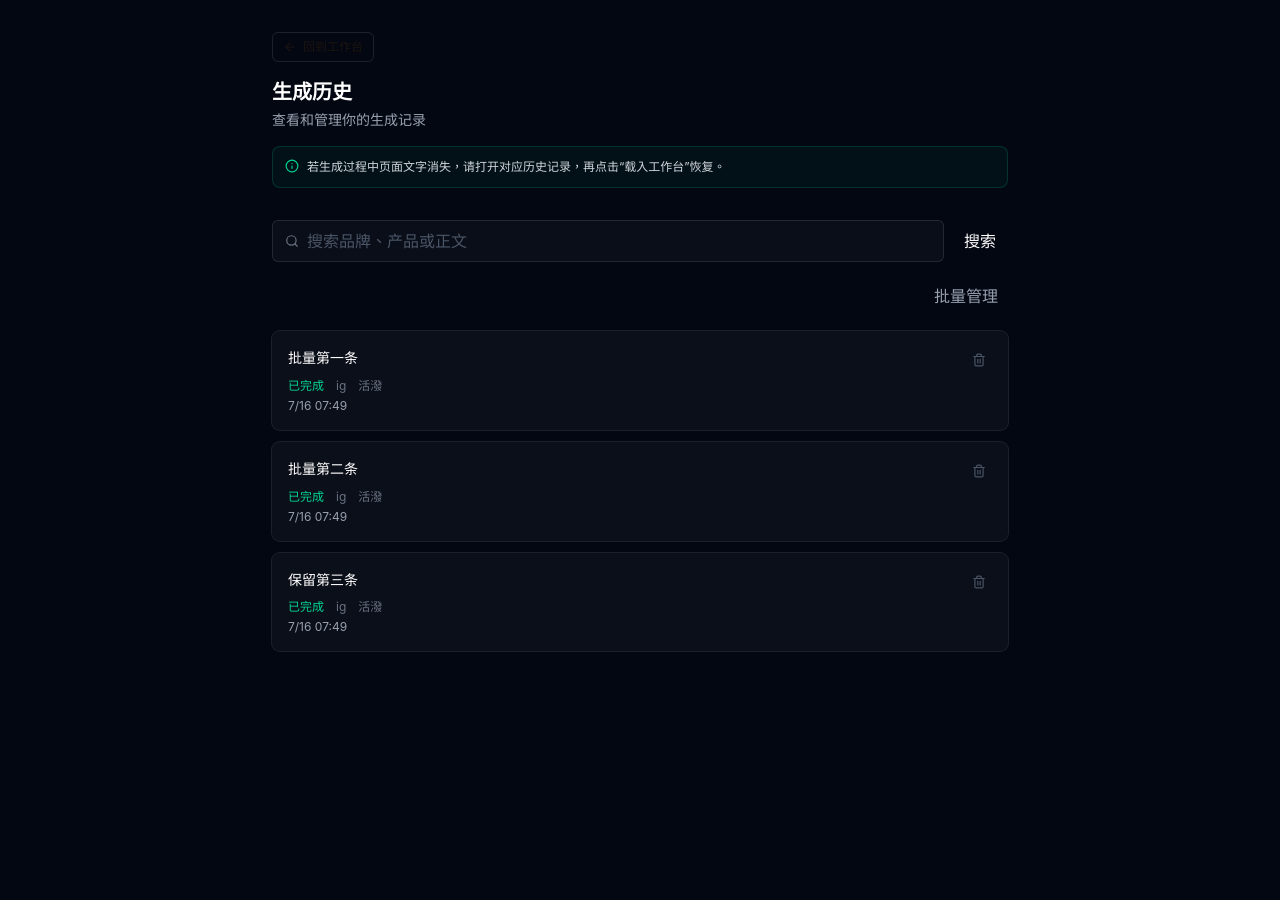
Test: HistoryPage — delete › 支持多选并一次确认批量删除所选历史
The image size is (1280, 900).
Check: the text "批量第一条" is shown, box [288,349,358,366]
Click the button "批量管理" at (966, 297), box [924,278,1008,315]
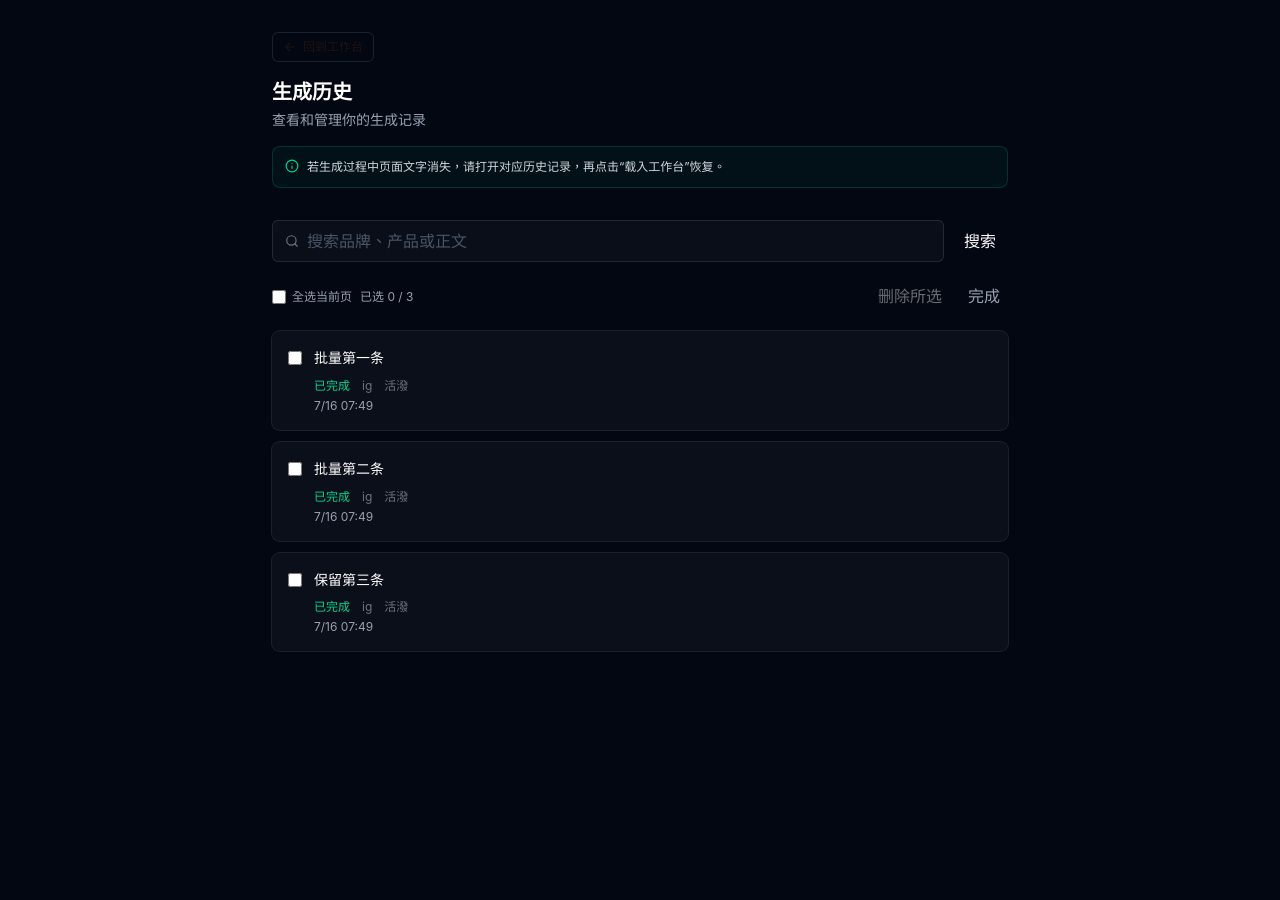
Click the checkbox named "选择历史：批量第一条" at (295, 358), box [288,351,302,365]
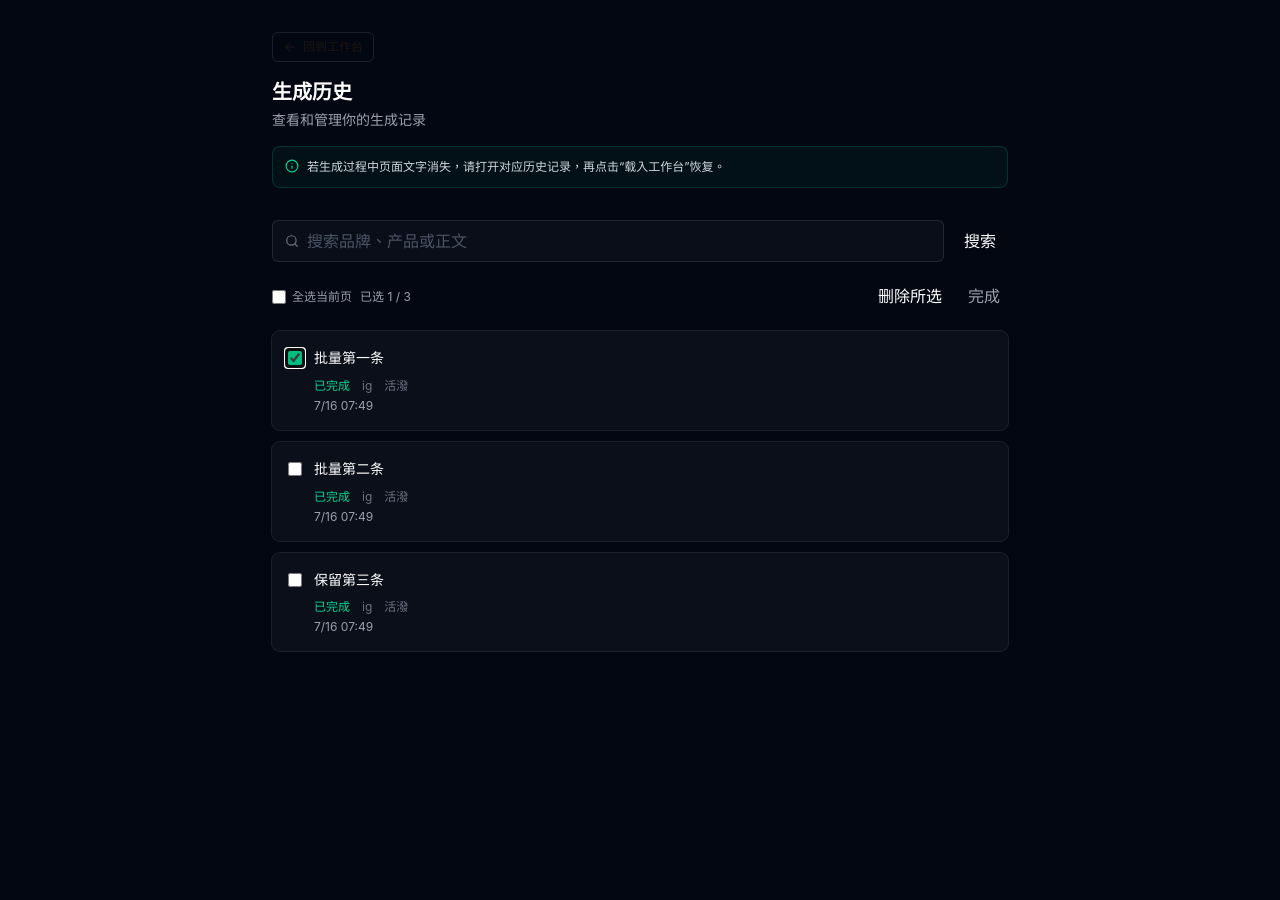
Click the checkbox named "选择历史：批量第二条" at (295, 469), box [288,462,302,476]
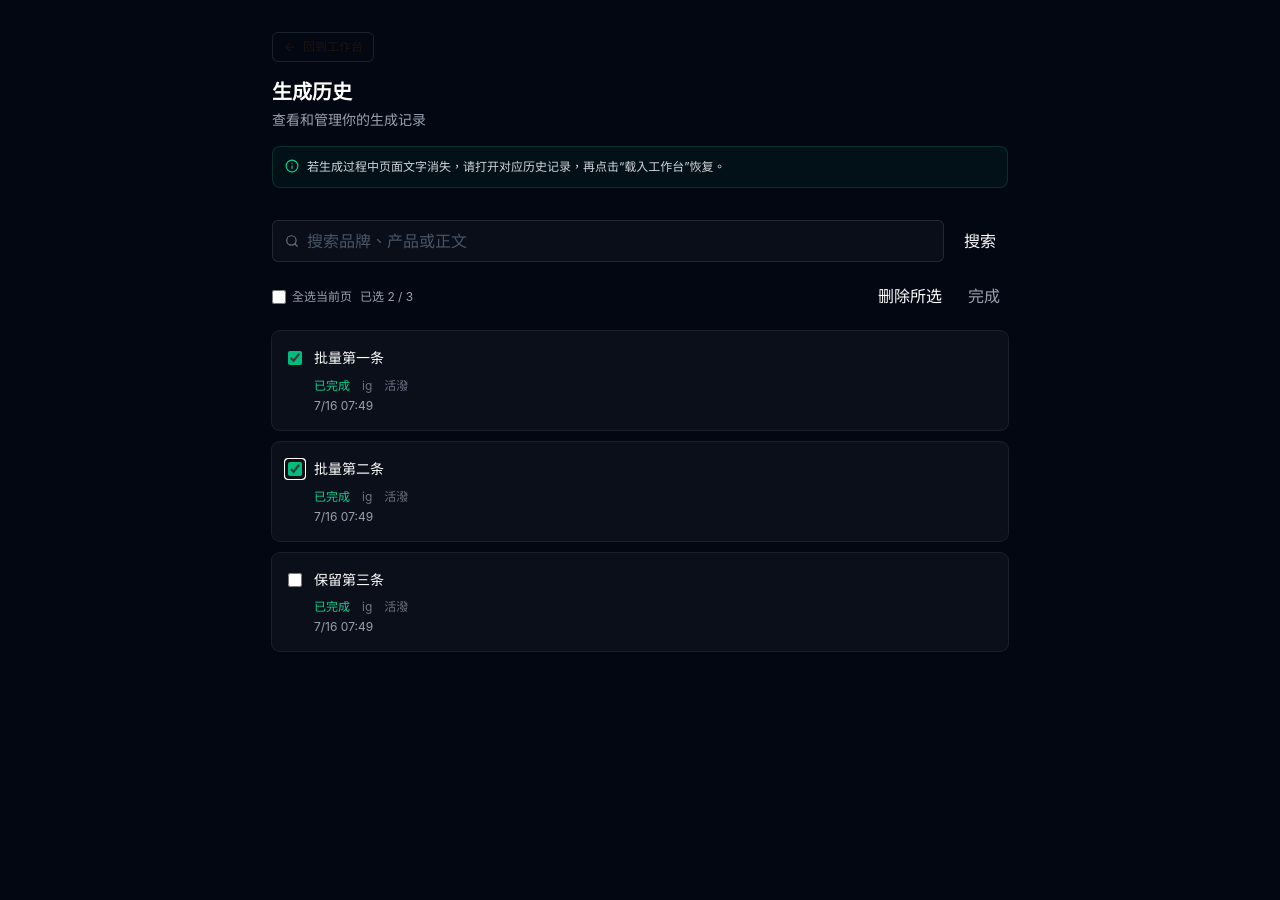
Check: the text "已选 2 / 3" is shown, box [360,289,413,305]
Click the button "删除所选" at (910, 297), box [868,278,952,315]
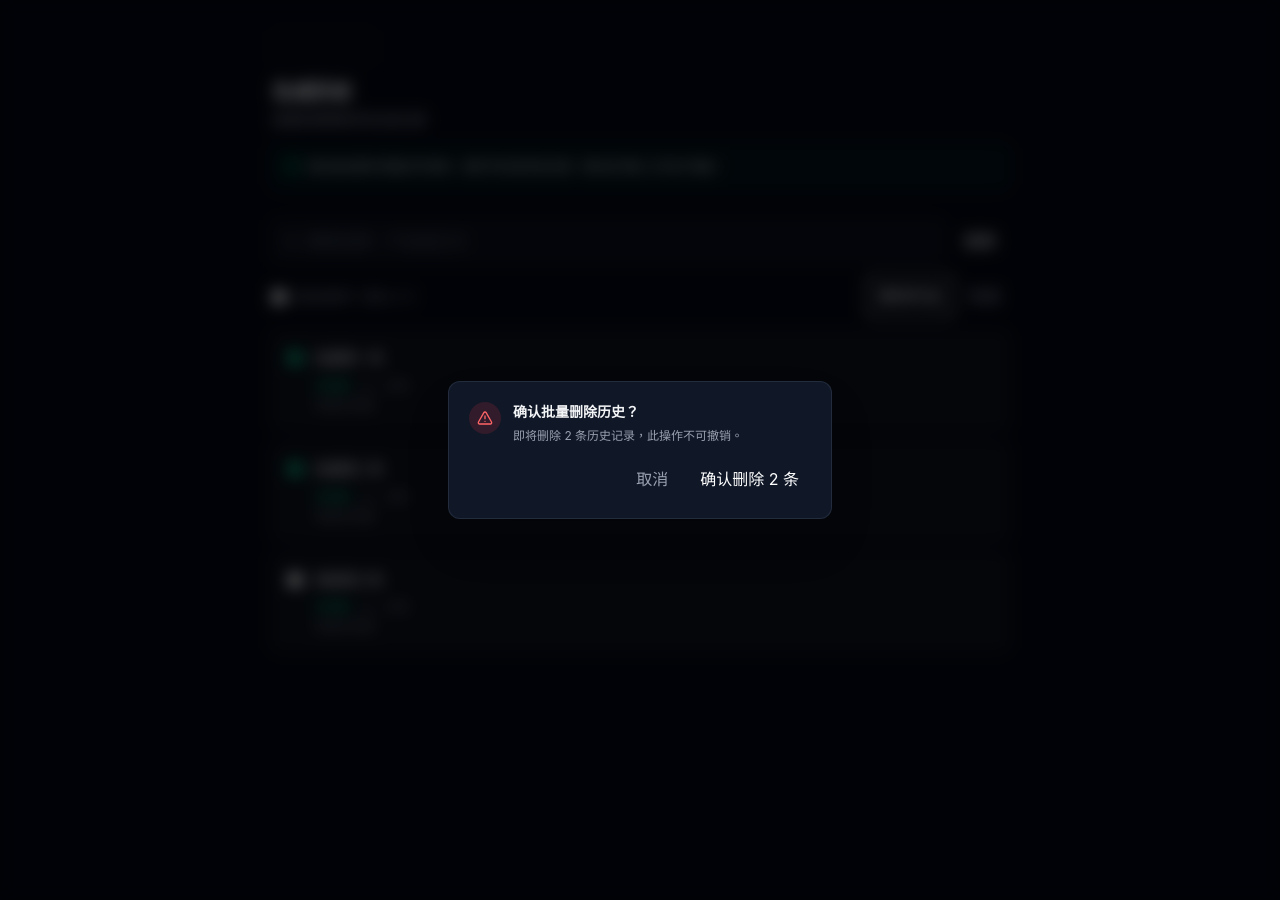
Click the button "确认删除 2 条" at (750, 480), box [688,461,811,498]
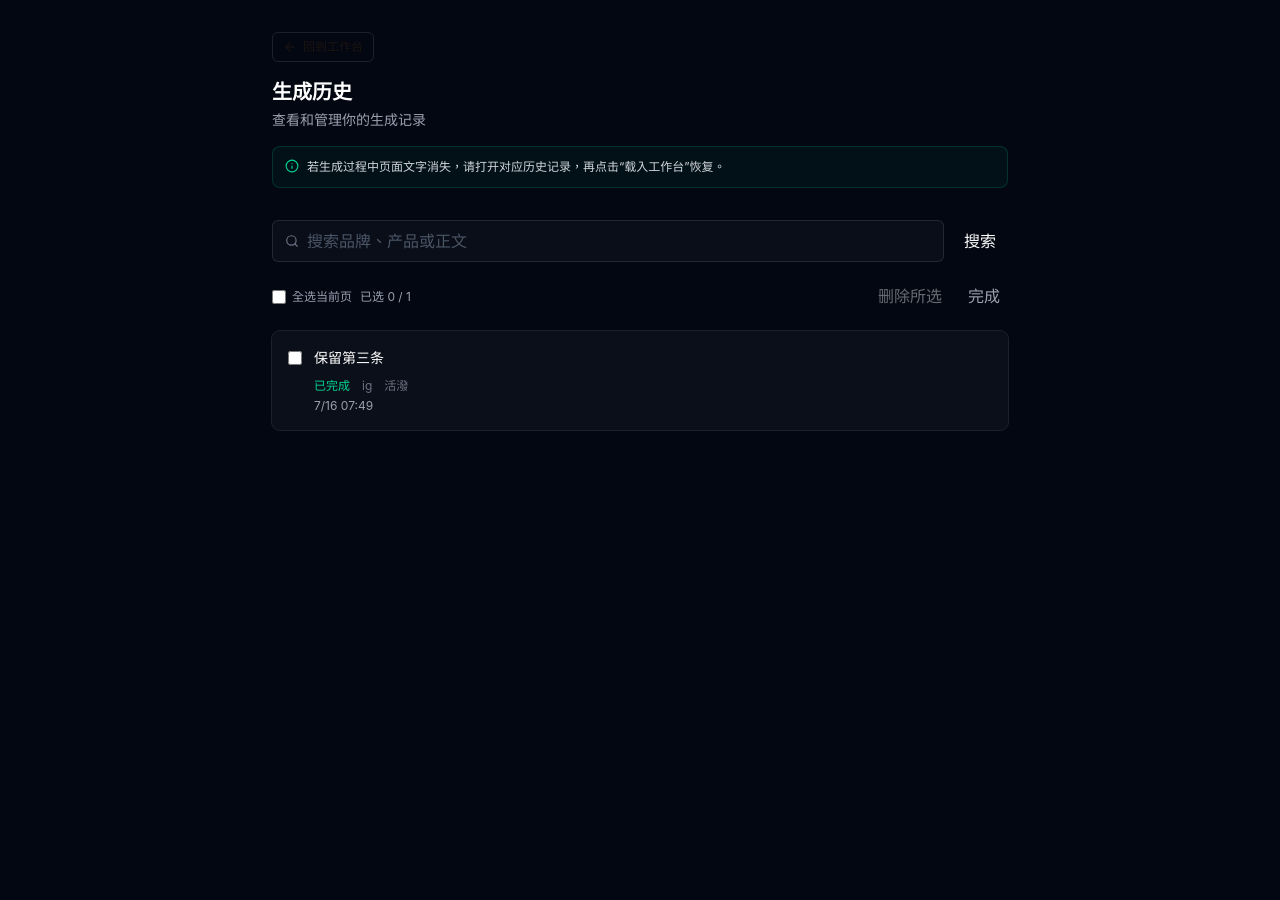
Check: the text "保留第三条" is shown, box [314,349,384,366]
Check: the link "批量第一条" is gone
Check: the link "批量第二条" is gone
